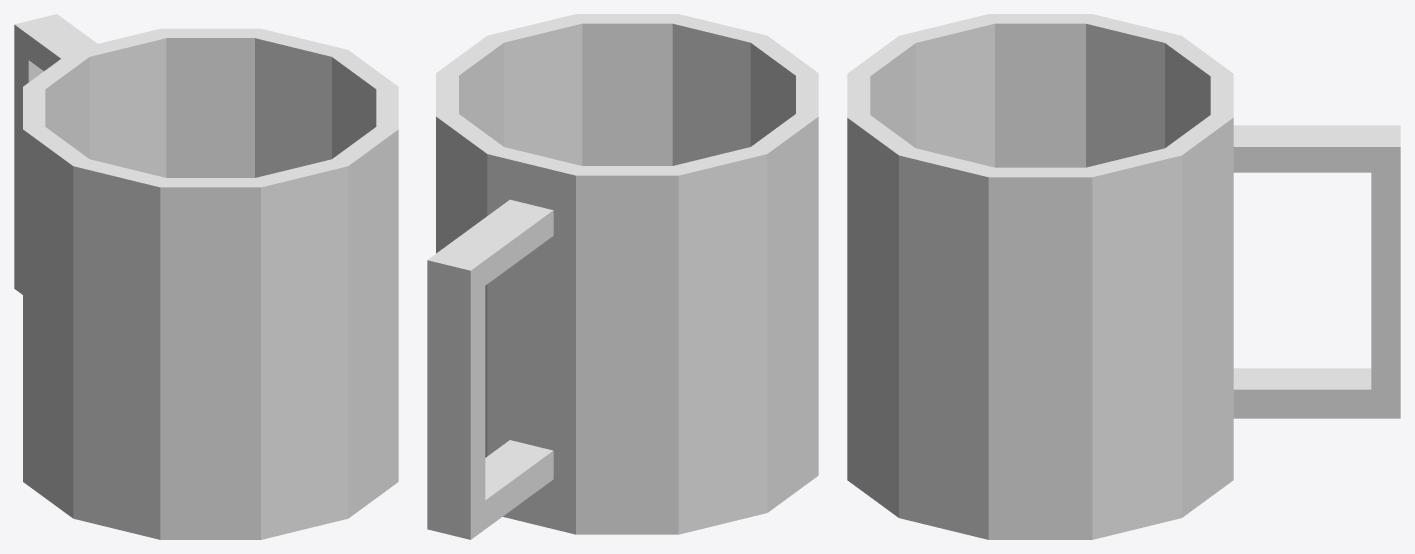
File: mug.gltf
The picture shows the model from 3 angles, left to right: view 1: azimuth 30°, elevation 25°; view 2: azimuth 150°, elevation 25°; view 3: azimuth 270°, elevation 25°; orthographic projection. The views are drawn at different scales.
Parts seen in each view (by area): view 1: Cube; view 2: Cube; view 3: Cube.
Boxes of the visible parts, x1=… form: Cube: x1=14, y1=14, x2=398, y2=539; Cube: x1=427, y1=14, x2=818, y2=539; Cube: x1=847, y1=14, x2=1400, y2=539.
Bounding box in the file's own units: 1.93 × 2 × 2.77.
Materials: 1 (1 with a texture image).
